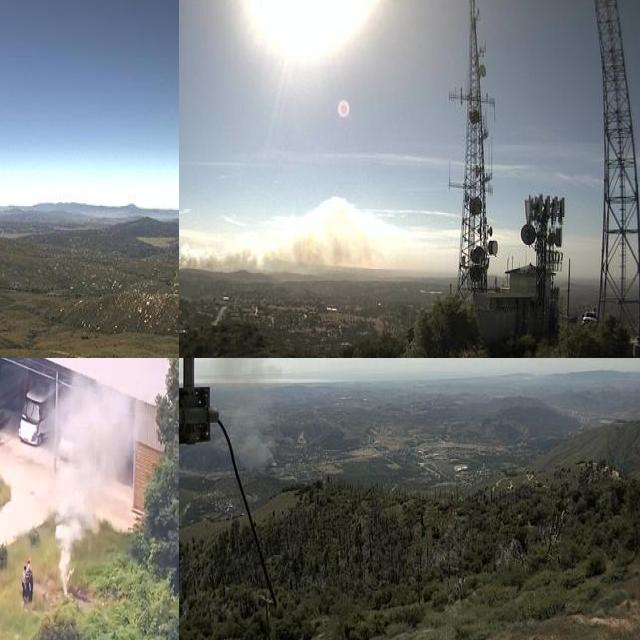smoke: (49, 358, 138, 592), (179, 194, 388, 276), (199, 358, 274, 492)
